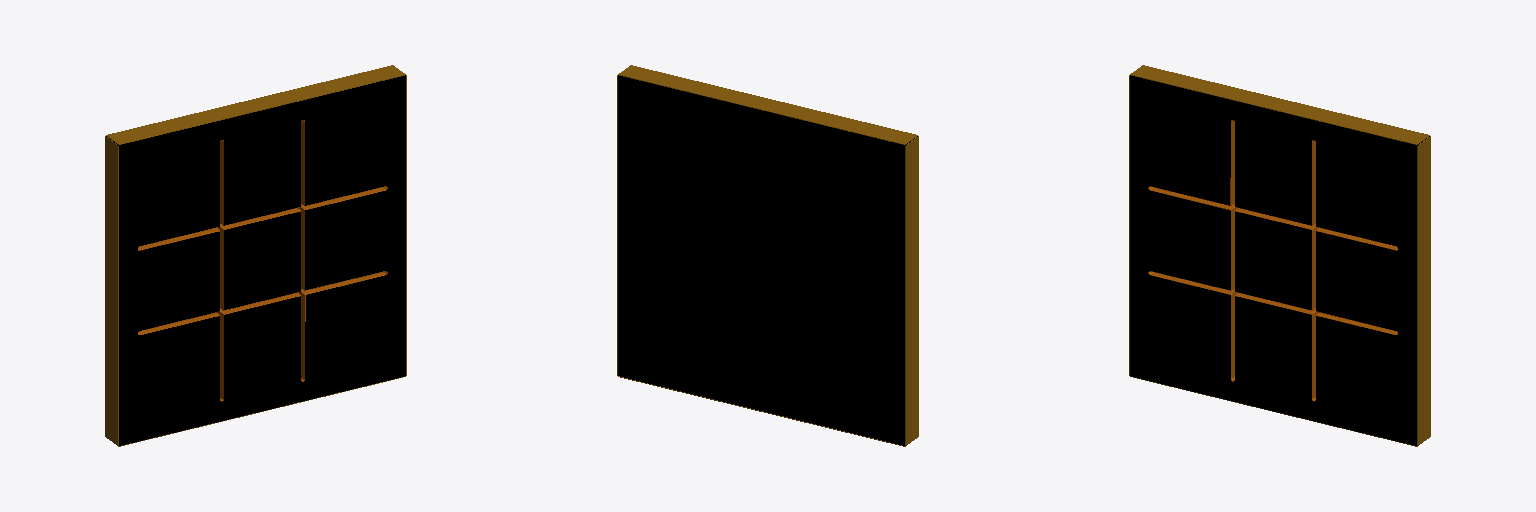
Rendered from playground.obj.
3 renders of one model, left to right at view 1: azimuth 30°, elevation 25°; view 2: azimuth 150°, elevation 25°; view 3: azimuth 330°, elevation 25°, orthographic.
Parts seen in each view (by area): view 1: Gallotti_Radice_Tip_Tap_Toe.003, Gallotti_Radice_Tip_Tap_Toe.001_Gallotti_Radice_Tip_Tap_Toe.004, Gallotti_Radice_Tip_Tap_Toe.002_Gallotti_Radice_Tip_Tap_Toe.005; view 2: Gallotti_Radice_Tip_Tap_Toe.003, Gallotti_Radice_Tip_Tap_Toe.001_Gallotti_Radice_Tip_Tap_Toe.004, Gallotti_Radice_Tip_Tap_Toe.002_Gallotti_Radice_Tip_Tap_Toe.005; view 3: Gallotti_Radice_Tip_Tap_Toe.003, Gallotti_Radice_Tip_Tap_Toe.005_Gallotti_Radice_Tip_Tap_Toe.007, Gallotti_Radice_Tip_Tap_Toe.002_Gallotti_Radice_Tip_Tap_Toe.005.
Part boxes in pixels (bbox=[...]): Gallotti_Radice_Tip_Tap_Toe.003: bbox=[106, 75, 405, 445]; Gallotti_Radice_Tip_Tap_Toe.001_Gallotti_Radice_Tip_Tap_Toe.004: bbox=[105, 136, 118, 445]; Gallotti_Radice_Tip_Tap_Toe.002_Gallotti_Radice_Tip_Tap_Toe.005: bbox=[106, 65, 405, 144]; Gallotti_Radice_Tip_Tap_Toe.003: bbox=[618, 75, 917, 445]; Gallotti_Radice_Tip_Tap_Toe.001_Gallotti_Radice_Tip_Tap_Toe.004: bbox=[905, 136, 918, 445]; Gallotti_Radice_Tip_Tap_Toe.002_Gallotti_Radice_Tip_Tap_Toe.005: bbox=[618, 65, 917, 144]; Gallotti_Radice_Tip_Tap_Toe.003: bbox=[1130, 75, 1429, 445]; Gallotti_Radice_Tip_Tap_Toe.005_Gallotti_Radice_Tip_Tap_Toe.007: bbox=[1417, 136, 1430, 445]; Gallotti_Radice_Tip_Tap_Toe.002_Gallotti_Radice_Tip_Tap_Toe.005: bbox=[1130, 65, 1429, 144].
Size of the model in its own units: 28 by 28 by 2.23.